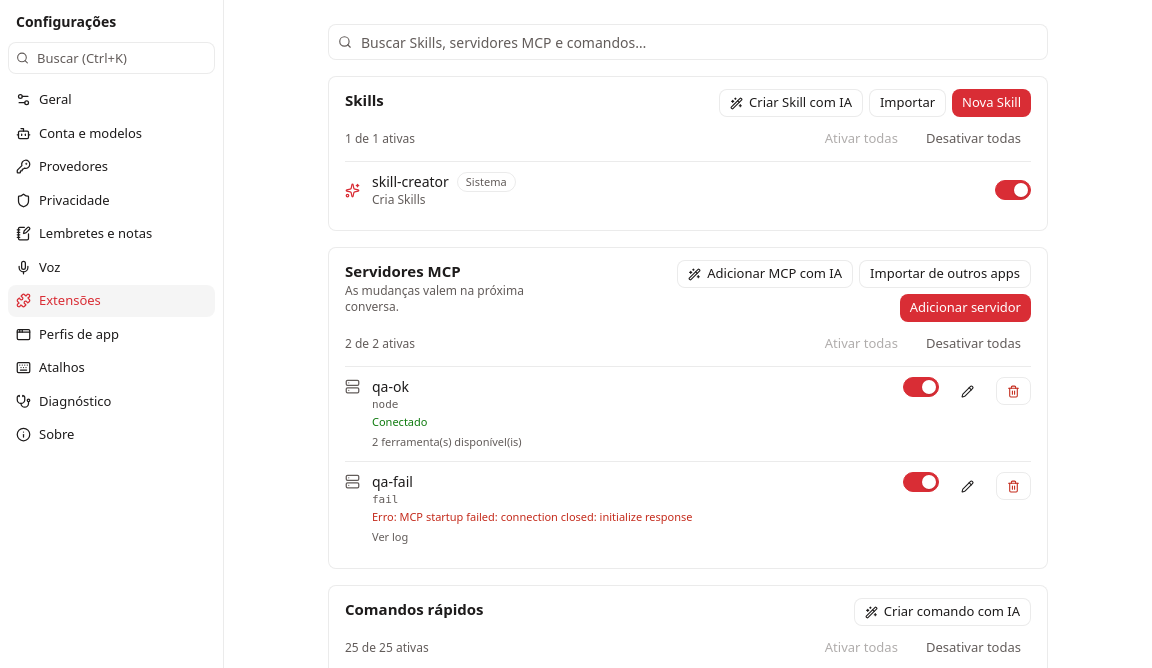
Test: Settings › shows MCP servers as connected or failed and the last log lines of a failure
The width and height of the screenshot is (1152, 668).
Expected: the message named "Estado de qa-ok" reads "Conectado", [372,414,428,428]
Expected: the message named "Estado de qa-fail" reads "Erro: MCP startup failed: connection closed: initialize response", [372,508,692,524]
Click the button with aria-label "Ver log de qa-fail".
click(390, 537)  # box [372,529,408,546]
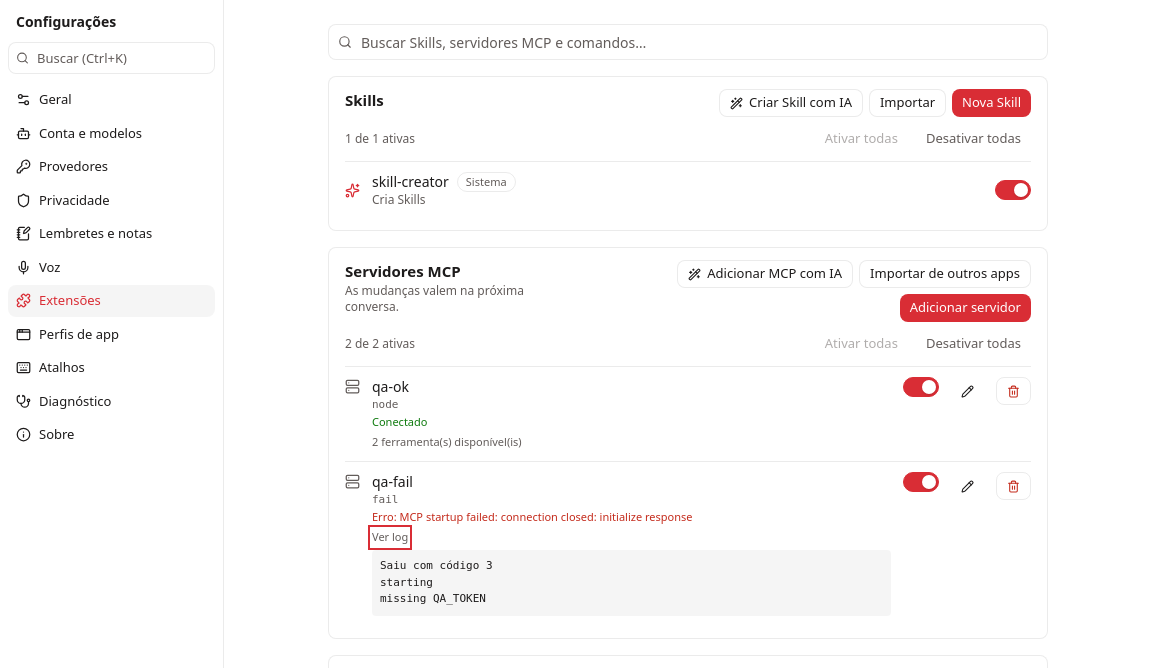
Now the text named "Log de qa-fail" shows "Saiu com código 3", box [380,559,493,605]
Now the text named "Log de qa-fail" shows "starting", box [380,559,493,605]
Now the text named "Log de qa-fail" shows "missing QA_TOKEN", box [380,559,493,605]
